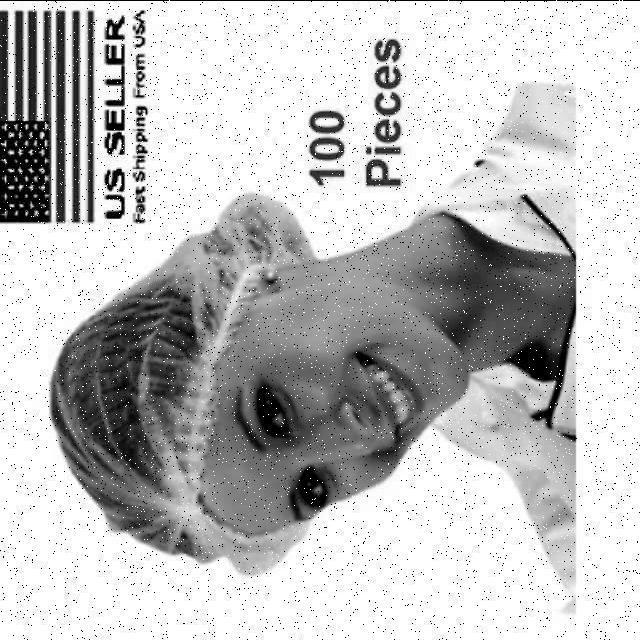no_hairnet: (266, 358, 451, 452)
